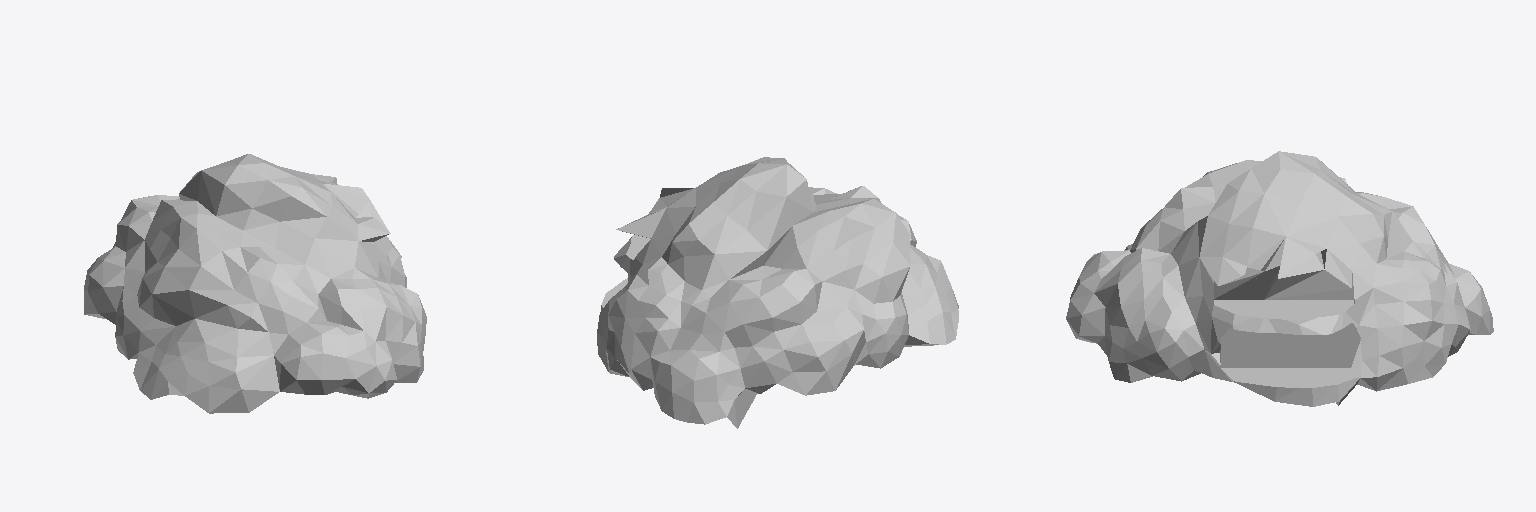
The model's file is DuplicateRune,.obj.
3 views of the same model, side by side, from view 1: azimuth 30°, elevation 25°; view 2: azimuth 150°, elevation 25°; view 3: azimuth 270°, elevation 25° (orthographic).
Visible parts, largest first — view 1: polySurface85.001; view 2: polySurface85.001; view 3: polySurface85.001.
Boxes of the visible parts, box(x1,y1,x2,y2) form: polySurface85.001: box(84, 154, 426, 413); polySurface85.001: box(597, 157, 958, 428); polySurface85.001: box(1066, 151, 1493, 406).
Size of the model in its own units: 2.8 by 1.73 by 3.52.